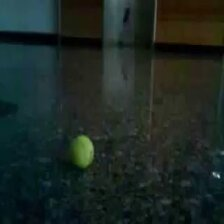tennis: (69, 134, 95, 170)
